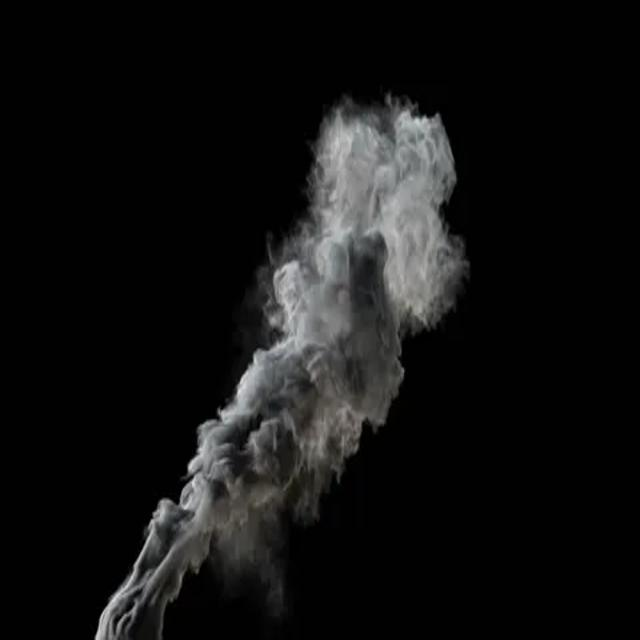Smoke: (94, 103, 472, 634)
